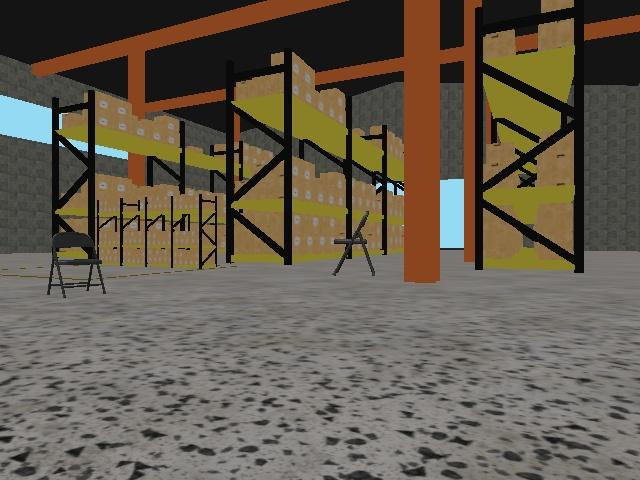chair: (46, 231, 108, 299), (331, 209, 377, 278)
